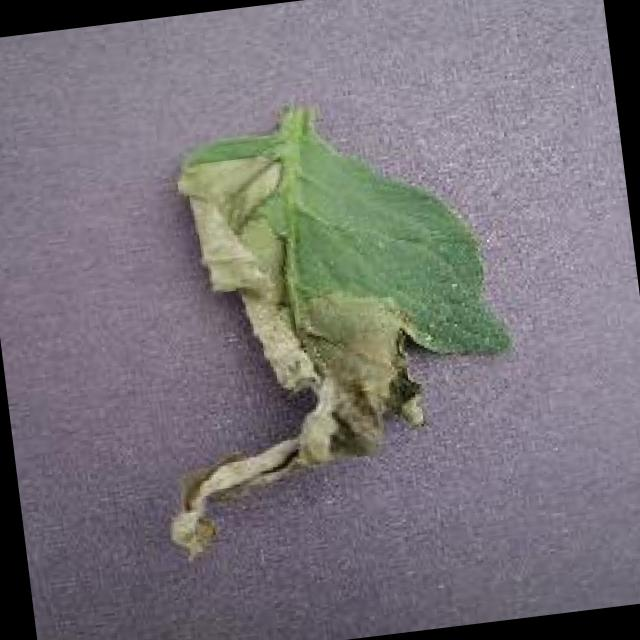Tomato_Late_Blight: (98, 130, 458, 582)
